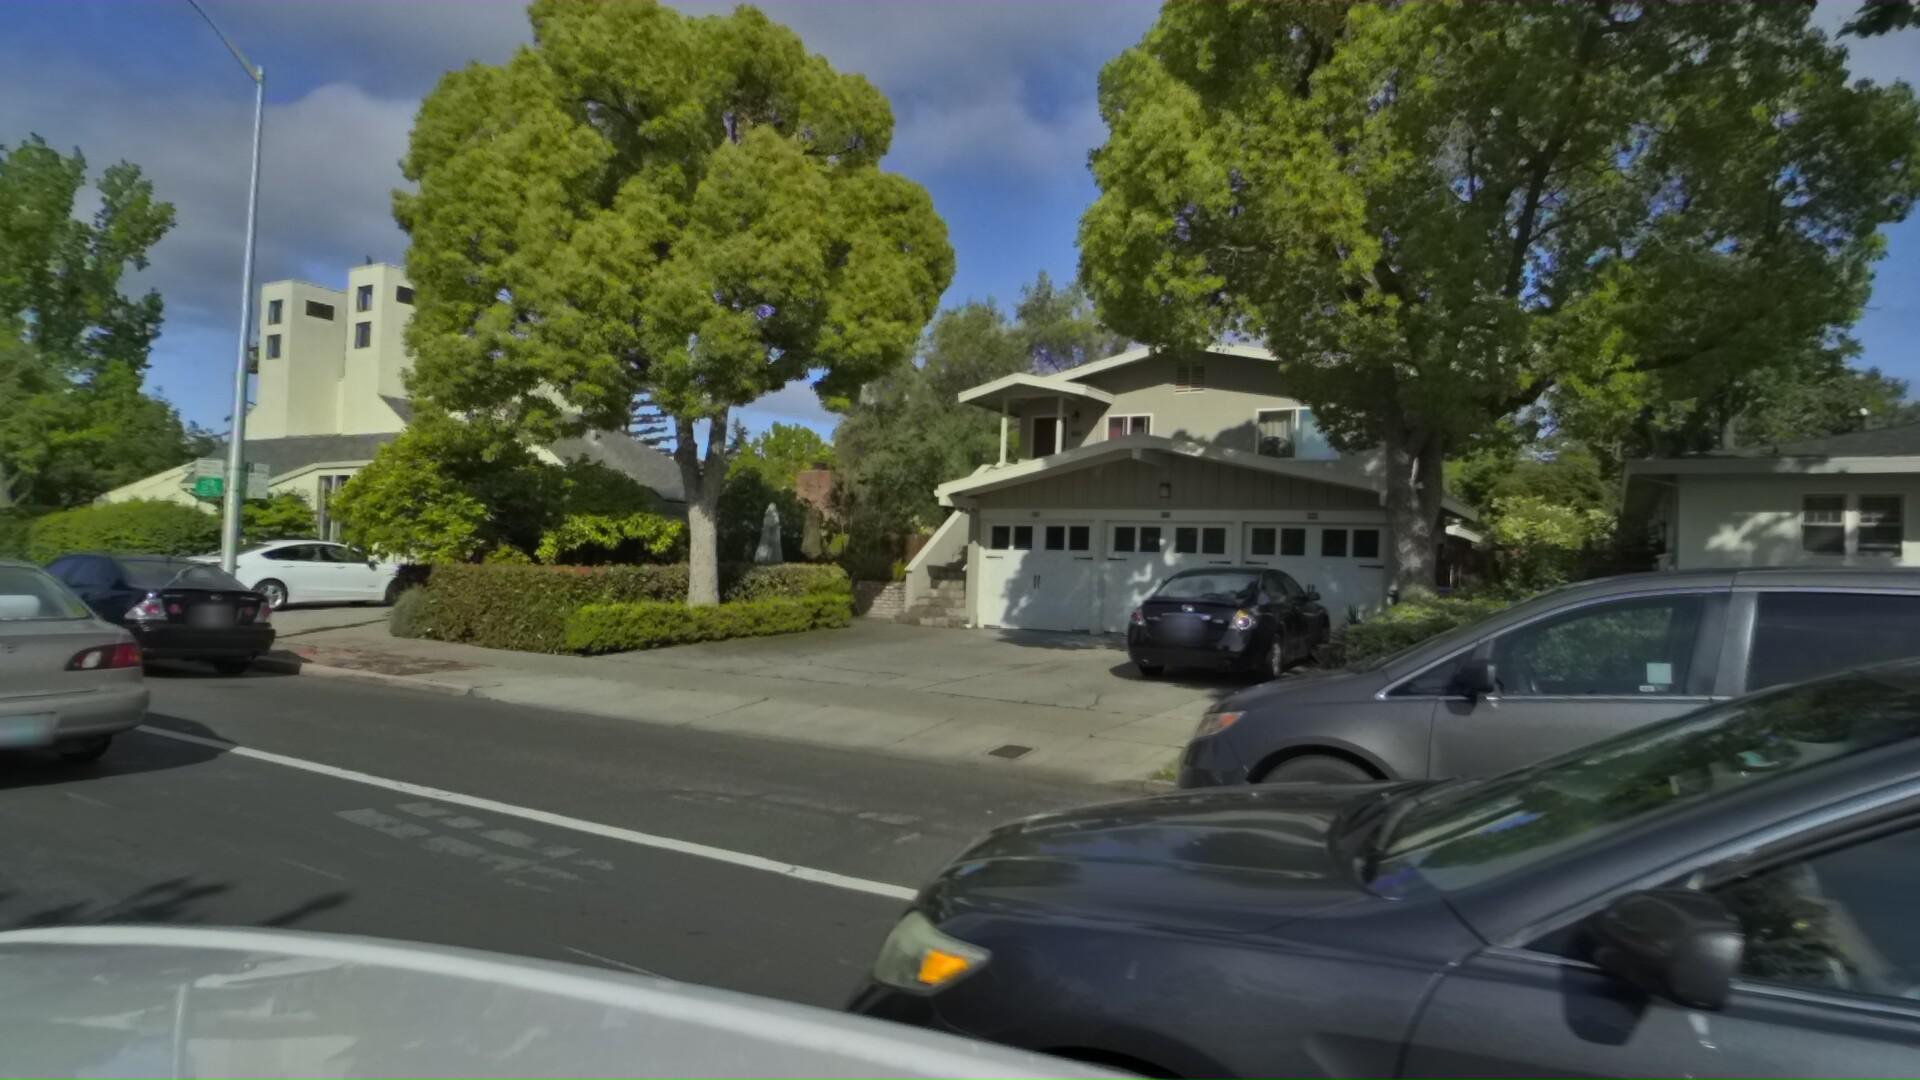car: (575, 533, 1920, 1080), (1040, 535, 1920, 1080), (0, 542, 293, 694), (0, 526, 140, 810), (1077, 553, 1311, 696), (156, 533, 414, 615)
